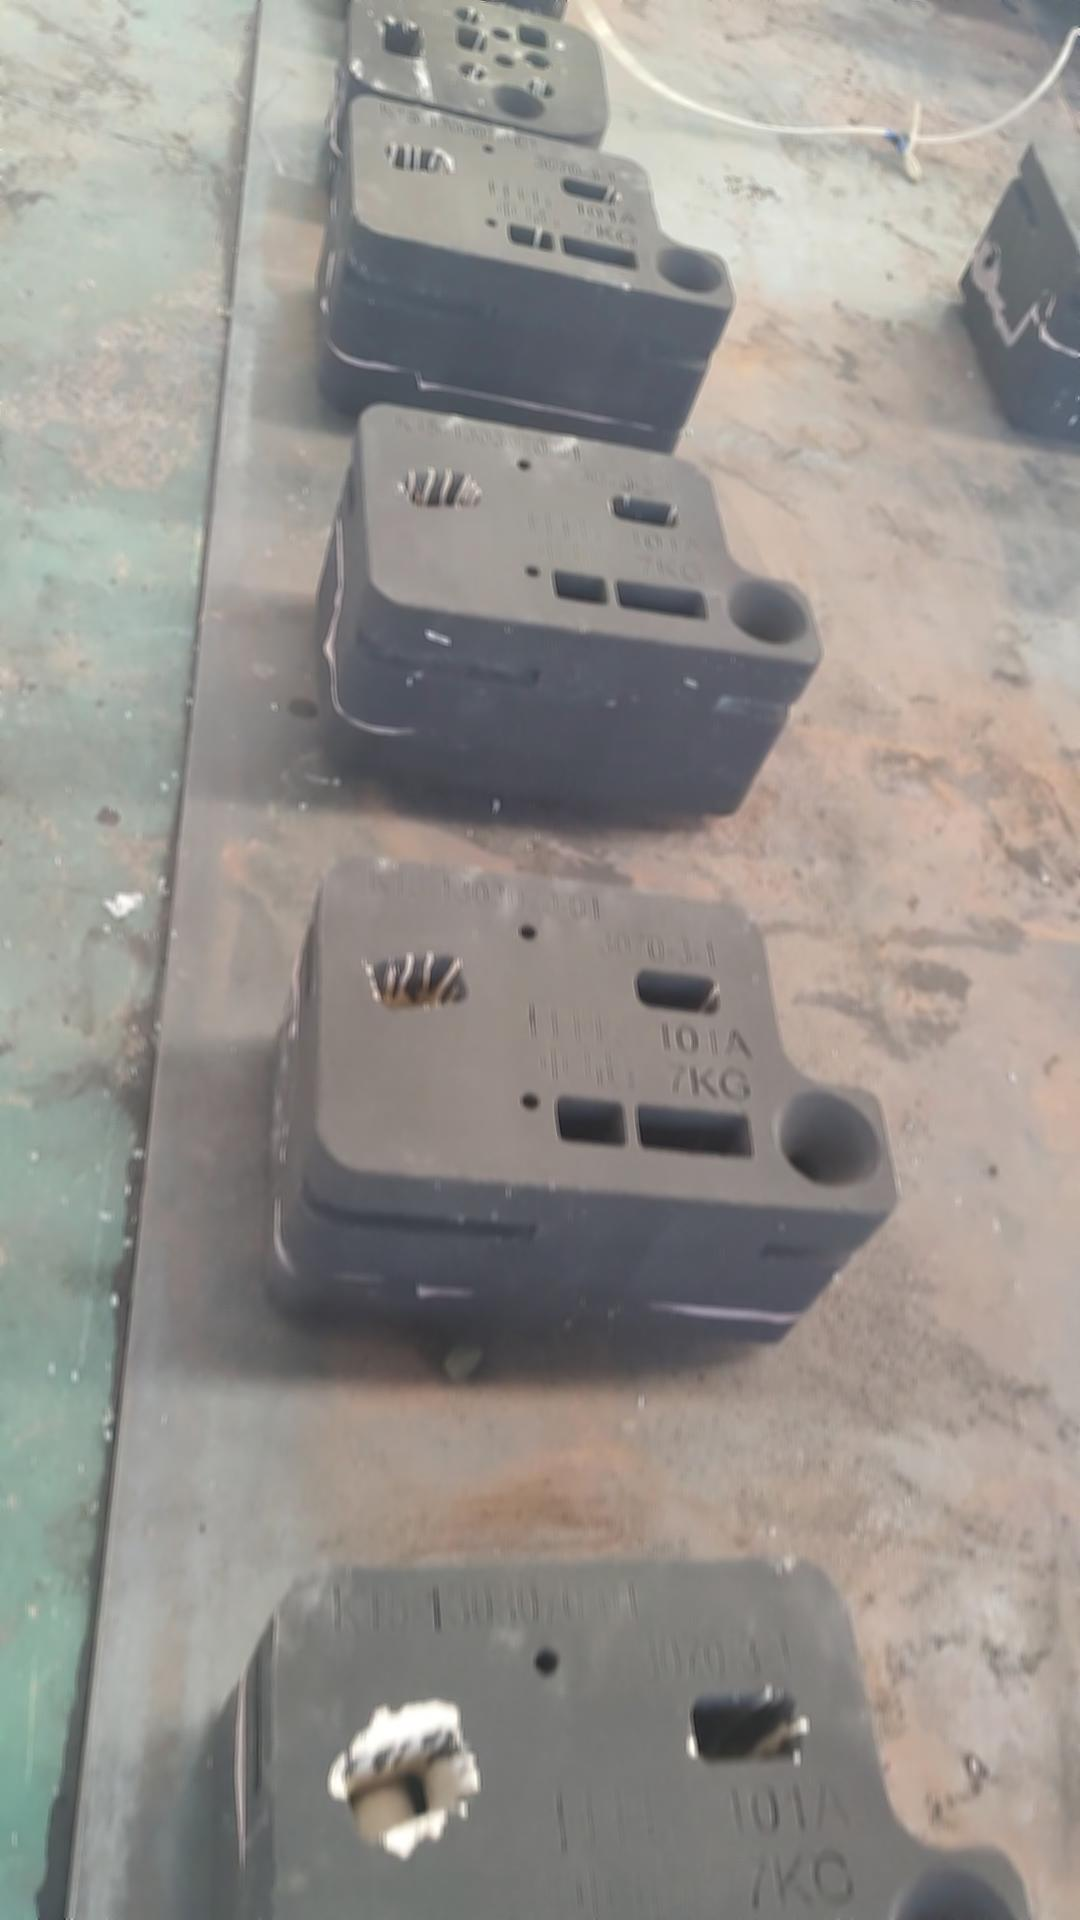pouring hole: (778, 1093, 880, 1187), (887, 1866, 1017, 1920), (729, 582, 808, 645), (654, 247, 723, 293), (489, 84, 545, 120)
